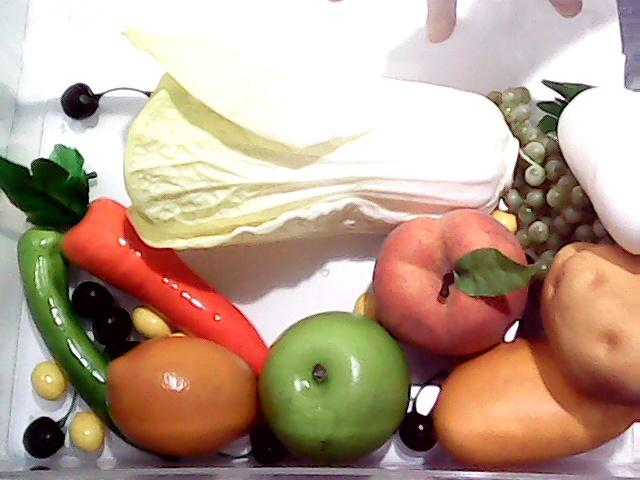apple: (256, 307, 418, 461)
carrot: (4, 147, 276, 377)
grape: (500, 90, 600, 240)
lemon: (96, 328, 280, 472)
mango: (428, 336, 640, 468)
napa cabbage: (119, 36, 521, 246)
peach: (372, 210, 528, 358)
pepper: (8, 157, 180, 447)
potato: (540, 239, 640, 409)
radish: (539, 75, 640, 257)
